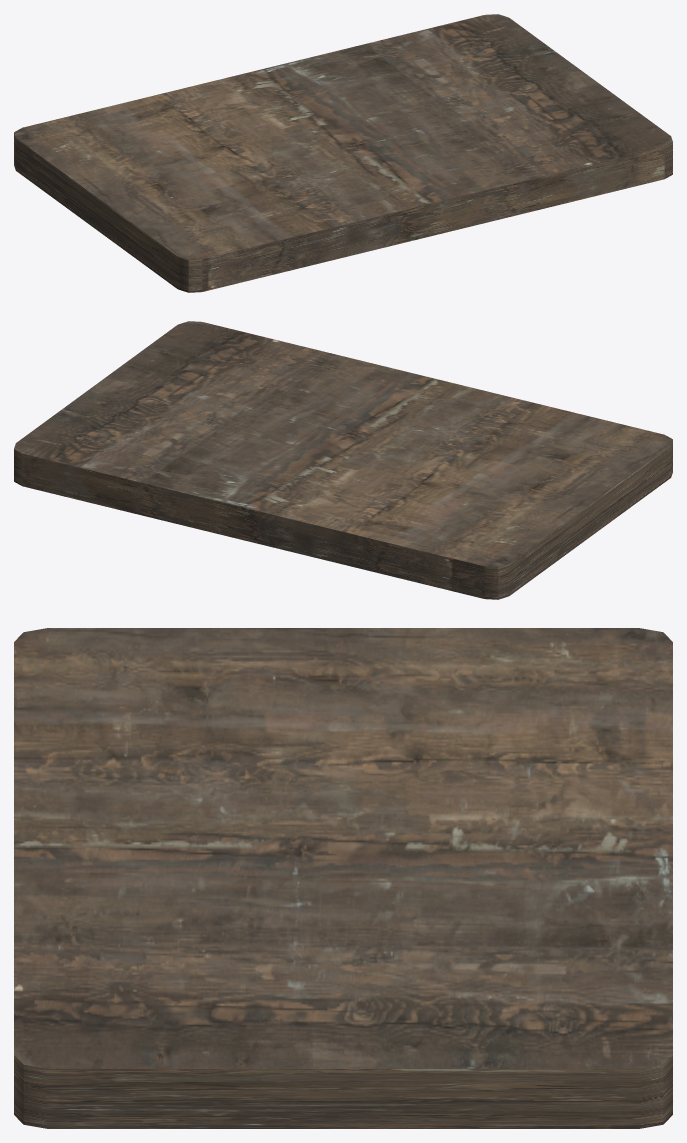
File: PlateOnFireplace.fbx
The picture shows the model from 3 angles, top to bottom: view 1: azimuth 30°, elevation 25°; view 2: azimuth 150°, elevation 25°; view 3: azimuth 270°, elevation 25°; orthographic projection. The views are drawn at different scales.
Visible parts, largest first — view 1: PlateOnFireplace; view 2: PlateOnFireplace; view 3: PlateOnFireplace.
Boxes of the visible parts, x1,y1,x2,y2 form: PlateOnFireplace: (14, 14, 672, 292); PlateOnFireplace: (14, 321, 672, 599); PlateOnFireplace: (14, 628, 672, 1128).
Bounding box in the file's own units: 1.69 × 0.1071 × 1.07.
1 material, 1 textured.
